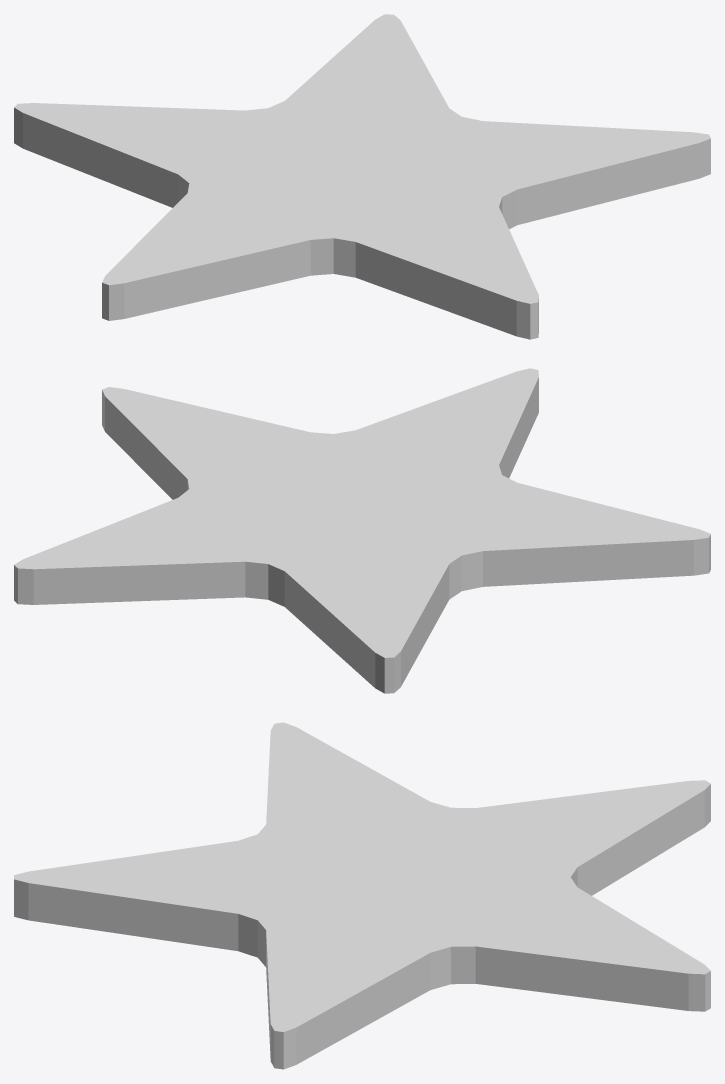
File: Capital_Star_01_3D.fbx
3 renders of one model, top to bottom at view 1: azimuth 30°, elevation 25°; view 2: azimuth 150°, elevation 25°; view 3: azimuth 270°, elevation 25°, orthographic. The views are drawn at different scales.
Parts seen in each view (by area): view 1: Capital_Star_01_3D; view 2: Capital_Star_01_3D; view 3: Capital_Star_01_3D.
Part boxes in pixels (x1=…): Capital_Star_01_3D: x1=14, y1=14, x2=710, y2=339; Capital_Star_01_3D: x1=14, y1=368, x2=710, y2=693; Capital_Star_01_3D: x1=14, y1=722, x2=710, y2=1069.
Bounding box in the file's own units: 178 × 10 × 169.
